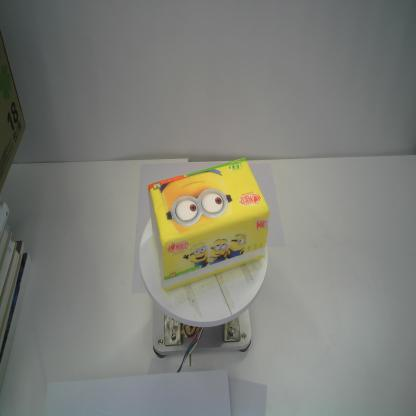Tissue: (144, 154, 271, 294)
